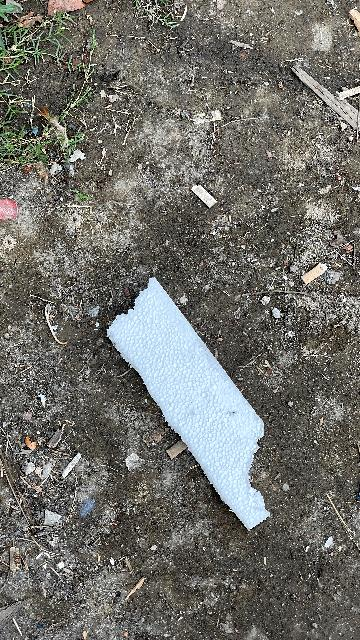cocksheet: (104, 261, 292, 556)
